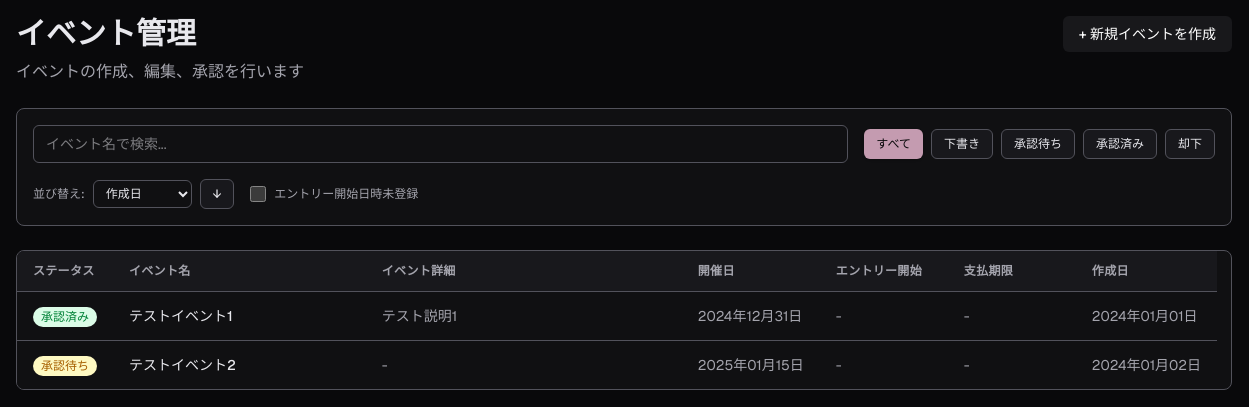
Test: AdminEventsPage › ソート順の昇順/降順を切り替える
Click the button "↓" at (217, 194), box [200,179,234,209]
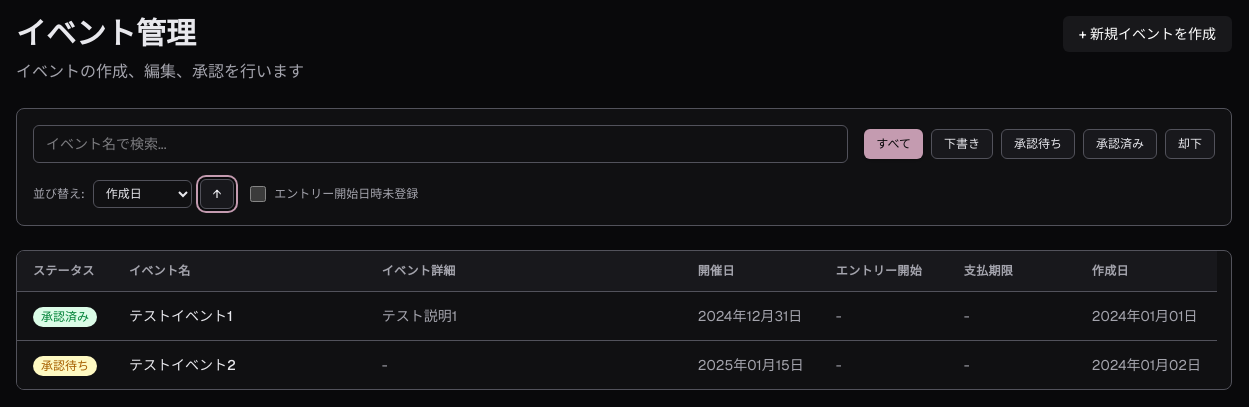
Now the button "↑" is shown, box [200,179,234,209]
